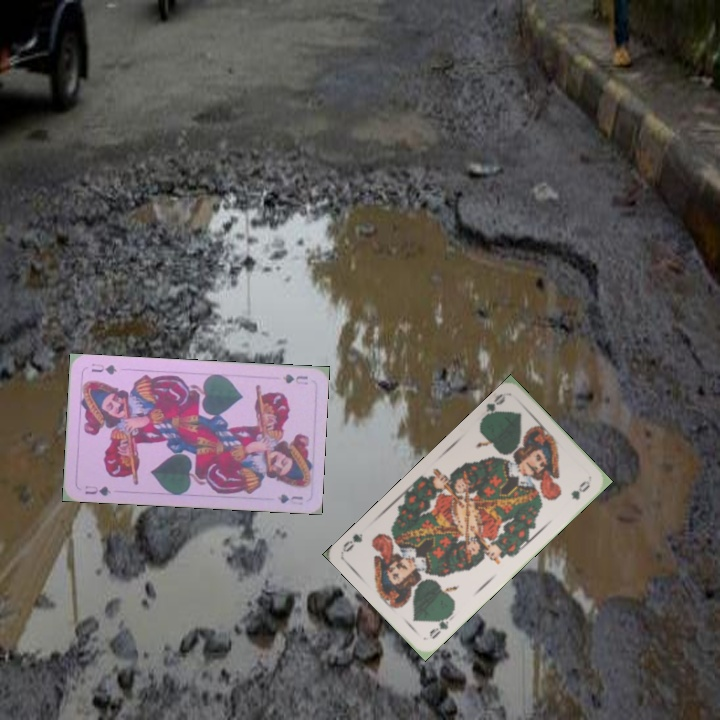GO: (477, 389, 508, 424), (425, 608, 455, 642)
GU: (81, 482, 113, 499), (279, 370, 310, 387)
